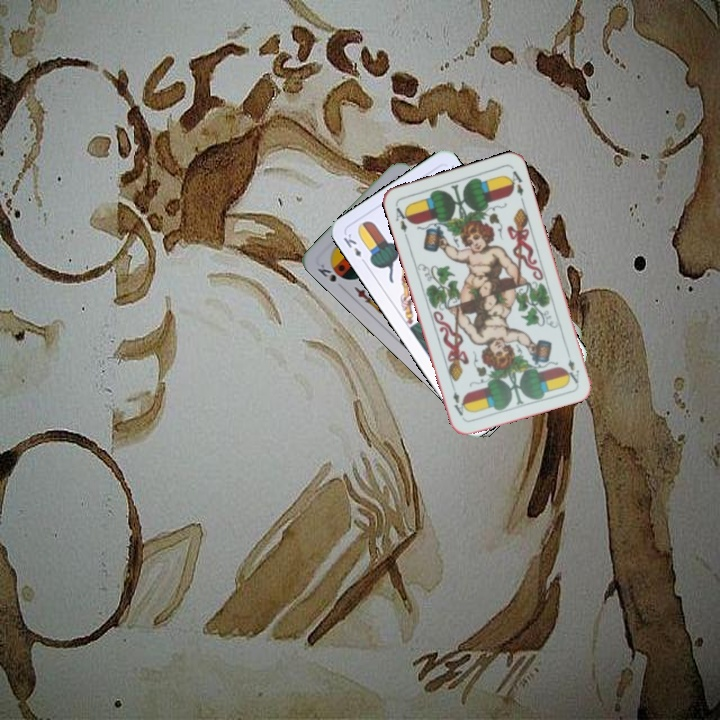EA: (391, 203, 413, 241), (563, 346, 582, 386)
EK: (339, 229, 369, 267)
SK: (313, 260, 339, 284)
